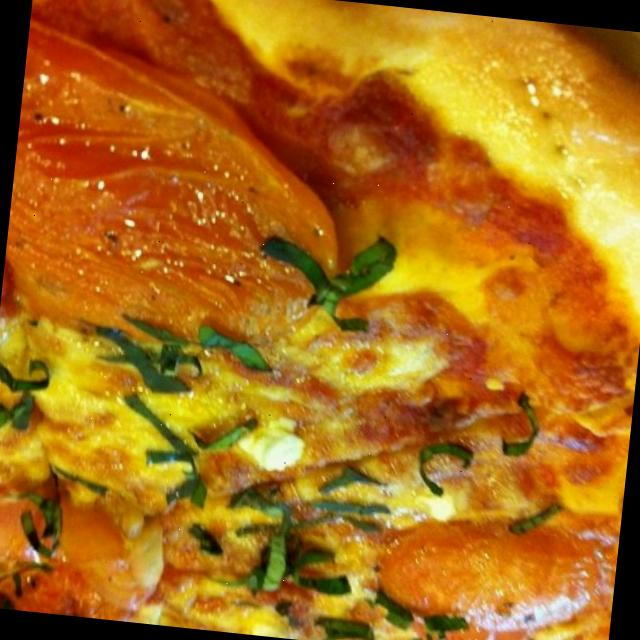basil: (100, 388, 248, 506), (256, 228, 401, 338), (219, 488, 346, 604), (96, 310, 194, 394), (311, 458, 391, 534), (190, 320, 278, 376), (14, 482, 70, 558), (281, 547, 357, 602), (412, 439, 478, 500), (496, 390, 543, 460), (300, 610, 391, 640), (0, 351, 55, 397), (507, 497, 564, 538), (45, 466, 108, 498), (366, 592, 414, 630), (416, 610, 469, 640), (8, 392, 37, 432), (0, 401, 15, 433)
tomato: (0, 15, 350, 364), (376, 513, 593, 639), (0, 497, 131, 620)
